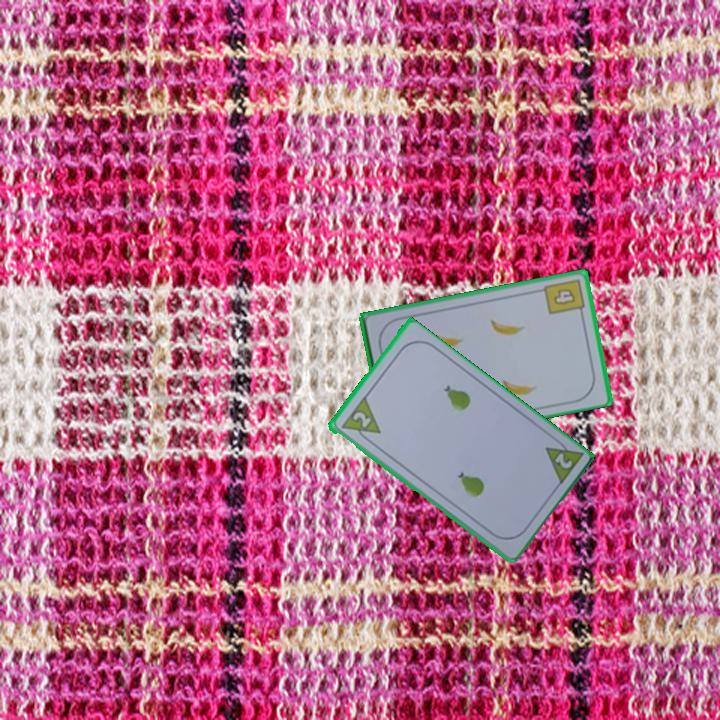2p: (541, 433, 585, 489), (337, 394, 383, 447)
4b: (540, 275, 587, 319)
